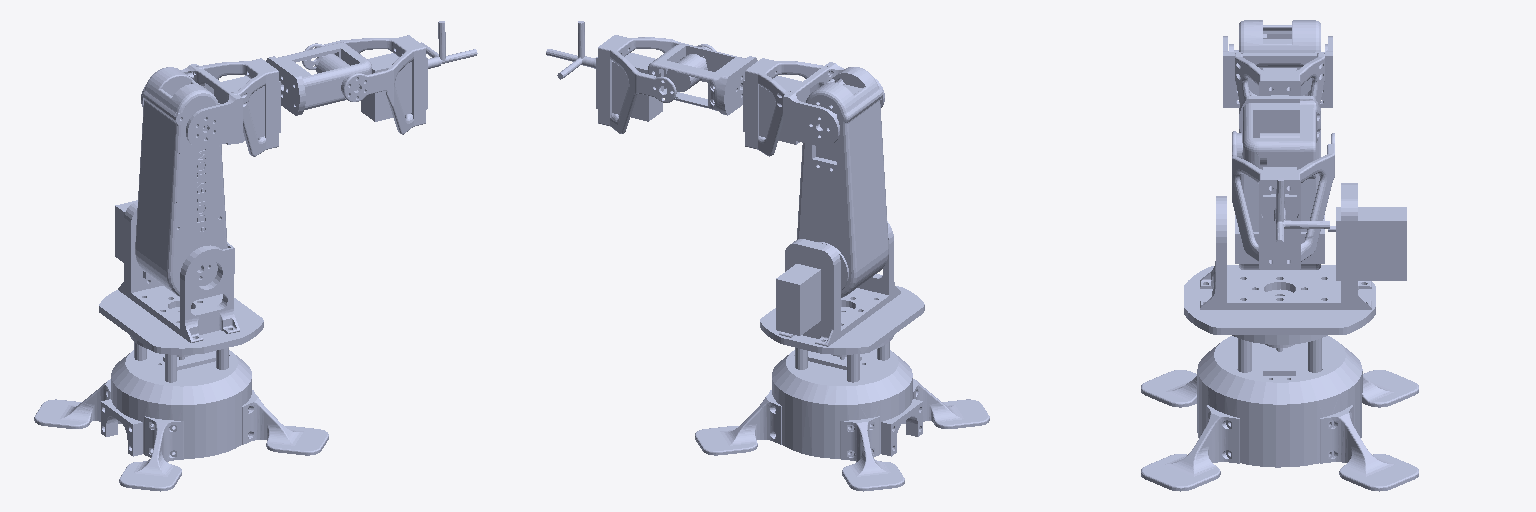
The robot description file, URDF, robot "6DOF-2":
<?xml version="1.0" encoding="utf-8"?>
<!-- This URDF was automatically created by SolidWorks to URDF Exporter! Originally created by [author] ([email redacted]) 
     Commit Version: 1.6.0-4-g7f85cfe  Build Version: 1.6.7995.38578
     For more information, please see http://wiki.ros.org/sw_urdf_exporter -->
<robot
  name="6DOF-2">
  <link
    name="base_link">
    <inertial>
      <origin
        xyz="0.00111653247184856 -2.47856588019062E-05 0.0350775423216737"
        rpy="0 0 0" />
      <mass
        value="0.214013778998518" />
      <inertia
        ixx="0.00014506059481398"
        ixy="-2.37847055524982E-12"
        ixz="1.27478119861964E-06"
        iyy="0.000147449505353298"
        iyz="-2.76699702605575E-14"
        izz="0.000223767943326789" />
    </inertial>
    <visual>
      <origin
        xyz="0 0 0"
        rpy="0 0 0" />
      <geometry>
        <mesh
          filename="package://6DOF-2/meshes/base_link.STL" />
      </geometry>
      <material
        name="">
        <color
          rgba="0.792156862745098 0.819607843137255 0.933333333333333 1" />
      </material>
    </visual>
    <collision>
      <origin
        xyz="0 0 0"
        rpy="0 0 0" />
      <geometry>
        <mesh
          filename="package://6DOF-2/meshes/base_link.STL" />
      </geometry>
    </collision>
  </link>
  <link
    name="link1">
    <inertial>
      <origin
        xyz="-3.30239519851079E-06 0.0170677308511169 0.0207459974530248"
        rpy="0 0 0" />
      <mass
        value="0.135893196407496" />
      <inertia
        ixx="8.16953377344433E-05"
        ixy="1.7747456586346E-08"
        ixz="5.1658703519188E-10"
        iyy="6.24198094411801E-05"
        iyz="1.88829979905978E-08"
        izz="0.000103378025391645" />
    </inertial>
    <visual>
      <origin
        xyz="0 0 0"
        rpy="0 0 0" />
      <geometry>
        <mesh
          filename="package://6DOF-2/meshes/link1.STL" />
      </geometry>
      <material
        name="">
        <color
          rgba="0.792156862745098 0.819607843137255 0.933333333333333 1" />
      </material>
    </visual>
    <collision>
      <origin
        xyz="0 0 0"
        rpy="0 0 0" />
      <geometry>
        <mesh
          filename="package://6DOF-2/meshes/link1.STL" />
      </geometry>
    </collision>
  </link>
  <joint
    name="joint1"
    type="revolute">
    <origin
      xyz="0 0 0.085"
      rpy="0 0 0" />
    <parent
      link="base_link" />
    <child
      link="link1" />
    <axis
      xyz="0 0 1" />
    <limit
      lower="-1.57"
      upper="1.57"
      effort="0"
      velocity="0" />
  </joint>
  <link
    name="link2">
    <inertial>
      <origin
        xyz="0.000436840828042232 -0.0679768380175993 0.000254476875340271"
        rpy="0 0 0" />
      <mass
        value="0.175235344220527" />
      <inertia
        ixx="0.000255022513735798"
        ixy="2.24897804370044E-09"
        ixz="5.40384385686437E-07"
        iyy="6.67645461061701E-05"
        iyz="1.12525106949762E-05"
        izz="0.000248867987979662" />
    </inertial>
    <visual>
      <origin
        xyz="0 0 0"
        rpy="0 0 0" />
      <geometry>
        <mesh
          filename="package://6DOF-2/meshes/link2.STL" />
      </geometry>
      <material
        name="">
        <color
          rgba="0.792156862745098 0.819607843137255 0.933333333333333 1" />
      </material>
    </visual>
    <collision>
      <origin
        xyz="0 0 0"
        rpy="0 0 0" />
      <geometry>
        <mesh
          filename="package://6DOF-2/meshes/link2.STL" />
      </geometry>
    </collision>
  </link>
  <joint
    name="joint2"
    type="revolute">
    <origin
      xyz="0 0 0.051"
      rpy="-1.5708 0 0" />
    <parent
      link="link1" />
    <child
      link="link2" />
    <axis
      xyz="0 0 -1" />
    <limit
      lower="-1.57"
      upper="1.57"
      effort="0"
      velocity="0" />
  </joint>
  <link
    name="link3">
    <inertial>
      <origin
        xyz="0.00731128167817027 0.0459386602638774 0.000173423468074263"
        rpy="0 0 0" />
      <mass
        value="0.0654362943169794" />
      <inertia
        ixx="2.39066743922144E-05"
        ixy="-5.92413205623402E-07"
        ixz="5.10085845703976E-09"
        iyy="2.89078640066287E-05"
        iyz="-1.06997422557498E-07"
        izz="2.20710311377657E-05" />
    </inertial>
    <visual>
      <origin
        xyz="0 0 0"
        rpy="0 0 0" />
      <geometry>
        <mesh
          filename="package://6DOF-2/meshes/link3.STL" />
      </geometry>
      <material
        name="">
        <color
          rgba="0.792156862745098 0.819607843137255 0.933333333333333 1" />
      </material>
    </visual>
    <collision>
      <origin
        xyz="0 0 0"
        rpy="0 0 0" />
      <geometry>
        <mesh
          filename="package://6DOF-2/meshes/link3.STL" />
      </geometry>
    </collision>
  </link>
  <joint
    name="joint3"
    type="revolute">
    <origin
      xyz="0 -0.1124 0"
      rpy="3.1416 0 1.5708" />
    <parent
      link="link2" />
    <child
      link="link3" />
    <axis
      xyz="0 0 1" />
    <limit
      lower="-1.57"
      upper="1.57"
      effort="0"
      velocity="0" />
  </joint>
  <link
    name="link4">
    <inertial>
      <origin
        xyz="7.70593905120853E-05 0.00182905514254787 0.0376494628048921"
        rpy="0 0 0" />
      <mass
        value="0.0386078994649683" />
      <inertia
        ixx="1.92342011434751E-05"
        ixy="-6.41037581818175E-09"
        ixz="-7.81187102308395E-08"
        iyy="1.67673081393978E-05"
        iyz="2.05117616706914E-06"
        izz="6.64743882543711E-06" />
    </inertial>
    <visual>
      <origin
        xyz="0 0 0"
        rpy="0 0 0" />
      <geometry>
        <mesh
          filename="package://6DOF-2/meshes/link4.STL" />
      </geometry>
      <material
        name="">
        <color
          rgba="0.792156862745098 0.819607843137255 0.933333333333333 1" />
      </material>
    </visual>
    <collision>
      <origin
        xyz="0 0 0"
        rpy="0 0 0" />
      <geometry>
        <mesh
          filename="package://6DOF-2/meshes/link4.STL" />
      </geometry>
    </collision>
  </link>
  <joint
    name="link4"
    type="revolute">
    <origin
      xyz="0 0.075 0"
      rpy="1.5708 0 3.1416" />
    <parent
      link="link3" />
    <child
      link="link4" />
    <axis
      xyz="0 0 1" />
    <limit
      lower="-1.57"
      upper="1.57"
      effort="0"
      velocity="0" />
  </joint>
  <link
    name="link5">
    <inertial>
      <origin
        xyz="-0.0184256820448302 0.0453821355916177 0.000351559170909365"
        rpy="0 0 0" />
      <mass
        value="0.0534727652815745" />
      <inertia
        ixx="1.69983989756949E-05"
        ixy="1.74850231865527E-06"
        ixz="-2.14843265029993E-07"
        iyy="2.06994207429218E-05"
        iyz="1.71721108289366E-07"
        izz="2.17164666109225E-05" />
    </inertial>
    <visual>
      <origin
        xyz="0 0 0"
        rpy="0 0 0" />
      <geometry>
        <mesh
          filename="package://6DOF-2/meshes/link5.STL" />
      </geometry>
      <material
        name="">
        <color
          rgba="0.792156862745098 0.819607843137255 0.933333333333333 1" />
      </material>
    </visual>
    <collision>
      <origin
        xyz="0 0 0"
        rpy="0 0 0" />
      <geometry>
        <mesh
          filename="package://6DOF-2/meshes/link5.STL" />
      </geometry>
    </collision>
  </link>
  <joint
    name="joint5"
    type="revolute">
    <origin
      xyz="0 0 0.052"
      rpy="1.5708 0 0" />
    <parent
      link="link4" />
    <child
      link="link5" />
    <axis
      xyz="0 0 -1" />
    <limit
      lower="-1.57"
      upper="1.57"
      effort="0"
      velocity="0" />
  </joint>
  <link
    name="link6">
    <inertial>
      <origin
        xyz="0.0037332392922132 -0.00385606800350177 0.0173805970971101"
        rpy="0 0 0" />
      <mass
        value="0.00231539418970362" />
      <inertia
        ixx="3.57098871983819E-07"
        ixy="-4.07234095114581E-08"
        ixz="1.66638479445446E-08"
        iyy="3.59774075029641E-07"
        iyz="-1.72177633493782E-08"
        izz="2.79037471422483E-07" />
    </inertial>
    <visual>
      <origin
        xyz="0 0 0"
        rpy="0 0 0" />
      <geometry>
        <mesh
          filename="package://6DOF-2/meshes/link6.STL" />
      </geometry>
      <material
        name="">
        <color
          rgba="0.792156862745098 0.819607843137255 0.933333333333333 1" />
      </material>
    </visual>
    <collision>
      <origin
        xyz="0 0 0"
        rpy="0 0 0" />
      <geometry>
        <mesh
          filename="package://6DOF-2/meshes/link6.STL" />
      </geometry>
    </collision>
  </link>
  <joint
    name="joint6"
    type="revolute">
    <origin
      xyz="-0.01 0.0685 0"
      rpy="-1.5708 0 0" />
    <parent
      link="link5" />
    <child
      link="link6" />
    <axis
      xyz="0 0 1" />
    <limit
      lower="-1.57"
      upper="1.57"
      effort="0"
      velocity="0" />
  </joint>
</robot>

--- What the picture shows (computed from the rendered views, not written in the file) ---
Views: 3 orthographic renders of the robot side by side, from view 1: azimuth 30°, elevation 25°; view 2: azimuth 150°, elevation 25°; view 3: azimuth 270°, elevation 25°.
Robot: 6DOF-2 — 7 links, 6 joints (6 revolute); root link base_link; default pose: every joint at zero.
Visible links, largest first — view 1: base_link, link2, link1, link3, link5, link4, link6; view 2: base_link, link2, link1, link3, link5, link4, link6; view 3: base_link, link1, link5, link2, link4, link3, link6.
Boxes of the visible links, x1,y1,x2,y2 form: base_link: (34, 342, 328, 491); link2: (135, 67, 234, 296); link1: (99, 200, 263, 356); link3: (141, 58, 280, 156); link5: (302, 35, 427, 134); link4: (266, 42, 371, 115); link6: (420, 21, 477, 68); base_link: (695, 342, 989, 491); link2: (797, 67, 888, 297); link1: (760, 221, 924, 356); link3: (743, 58, 884, 156); link5: (596, 35, 715, 133); link4: (648, 44, 757, 115); link6: (546, 21, 595, 79); base_link: (1141, 336, 1418, 491); link1: (1184, 183, 1406, 347); link5: (1232, 131, 1334, 269); link2: (1229, 20, 1324, 269); link4: (1237, 96, 1320, 178); link3: (1223, 36, 1332, 169); link6: (1274, 178, 1329, 246).
Bounding box of the posed robot: 0.3247 × 0.1685 × 0.2735 m (x, y, z).
7 mesh visuals loaded from 7 distinct referenced files (7 binary STL).